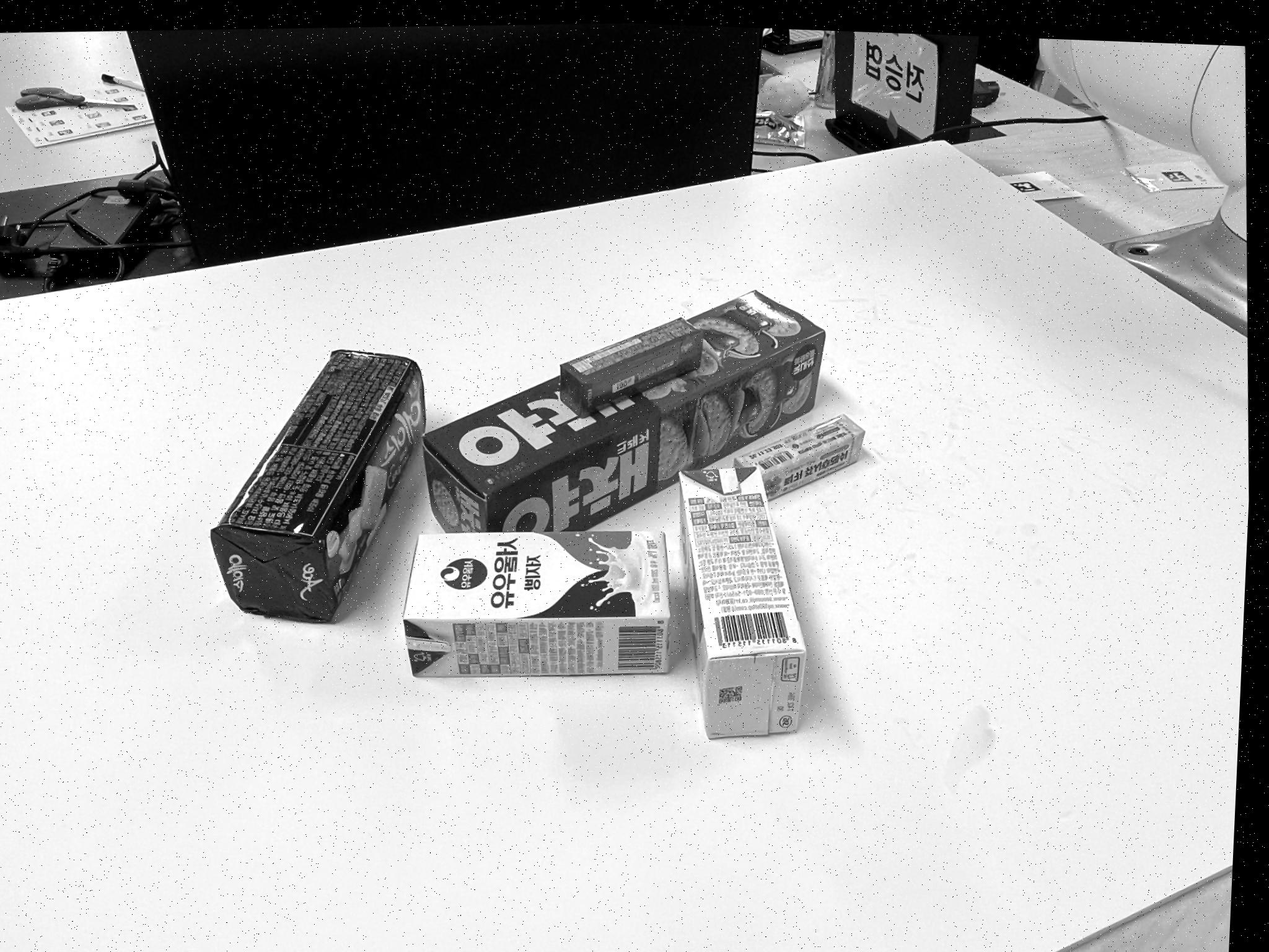cracker_ace: (212, 350, 426, 622)
cracker_vege: (423, 290, 825, 533)
gum_green: (560, 319, 702, 414)
gum_yellow: (734, 415, 864, 500)
milk_blue: (404, 530, 670, 677)
milk_green: (679, 467, 807, 737)
